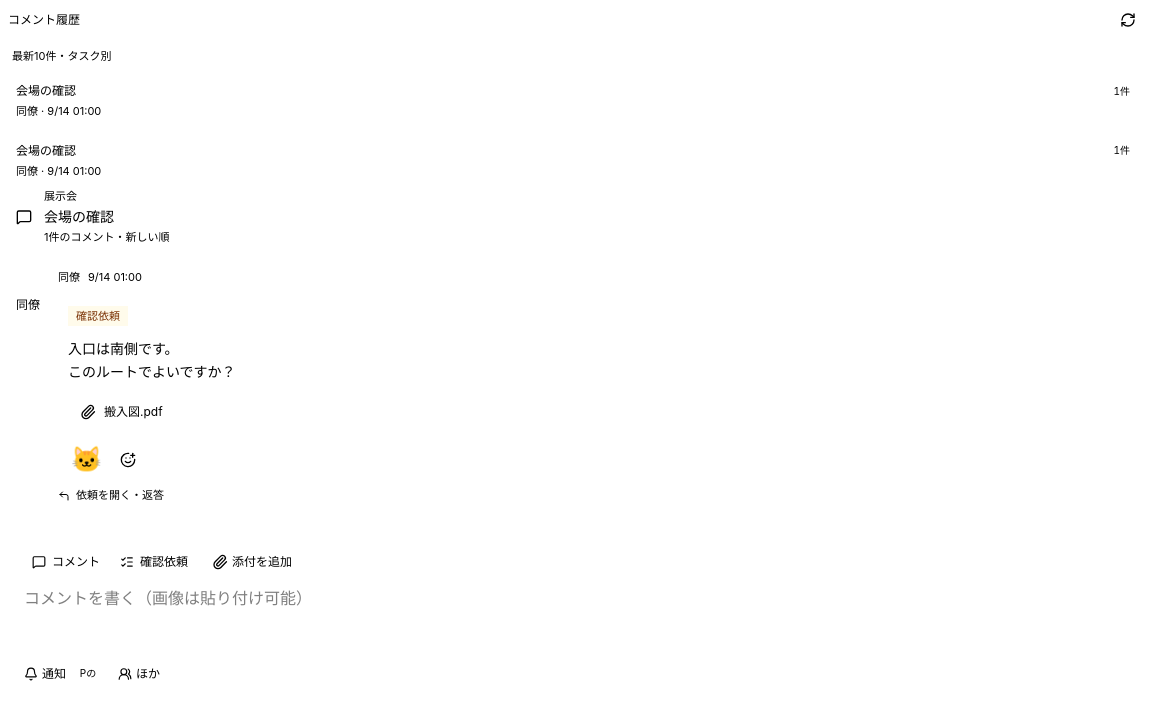
Test: posts to the selected task across projects, resets drafts when switching and refreshes the saved comment without navigating
Type "Pの下書き" into the text box named "メモ・報告の本文" at (576, 618), box 24,586 -> 1128,650
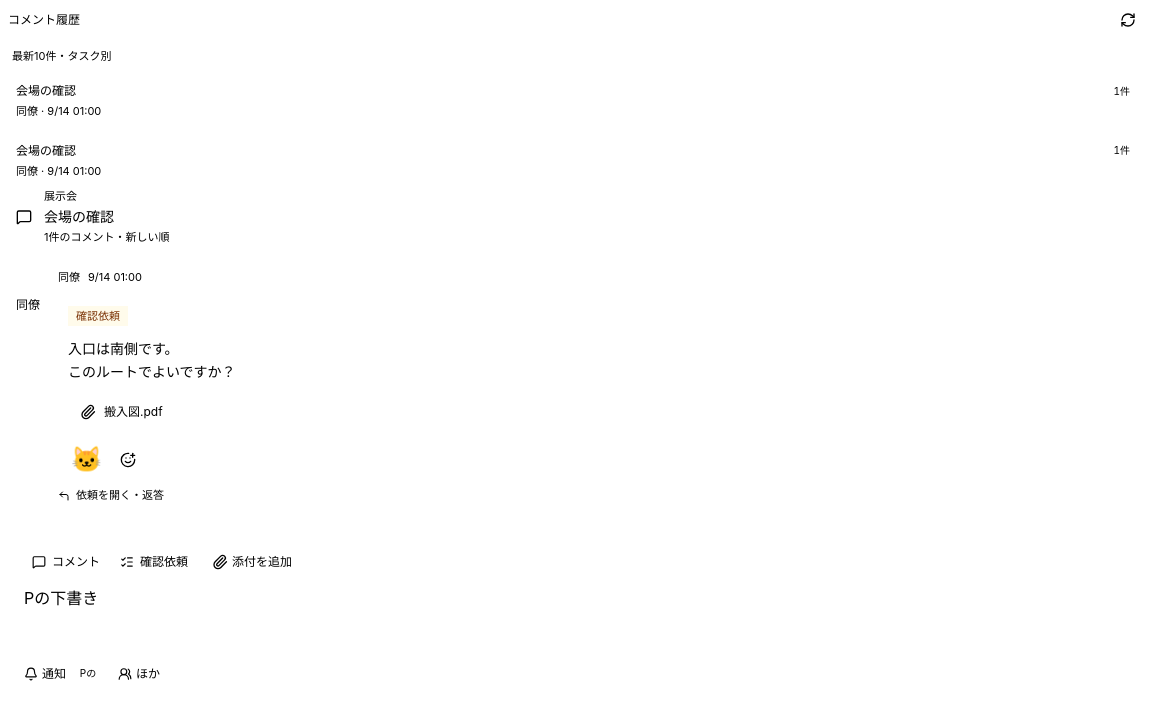
Click the button with aria-label "別の展示会 / 会場の確認のコメント（1件）" at (46, 151), box 6,132 -> 1146,188
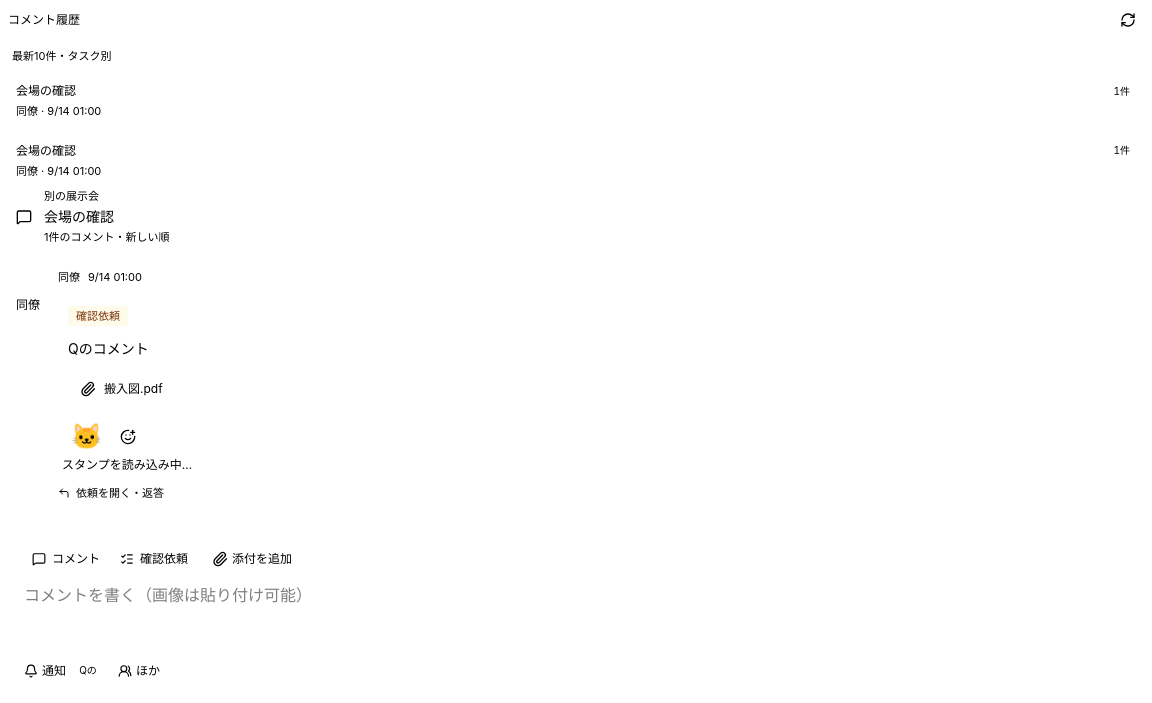
Expected: the text box named "メモ・報告の本文" is enabled, 24,583 -> 1128,647
Now the text box named "メモ・報告の本文" is empty, box 24,583 -> 1128,647
Click the checkbox named "Qのメンバー" at (88, 670), box 79,664 -> 97,676
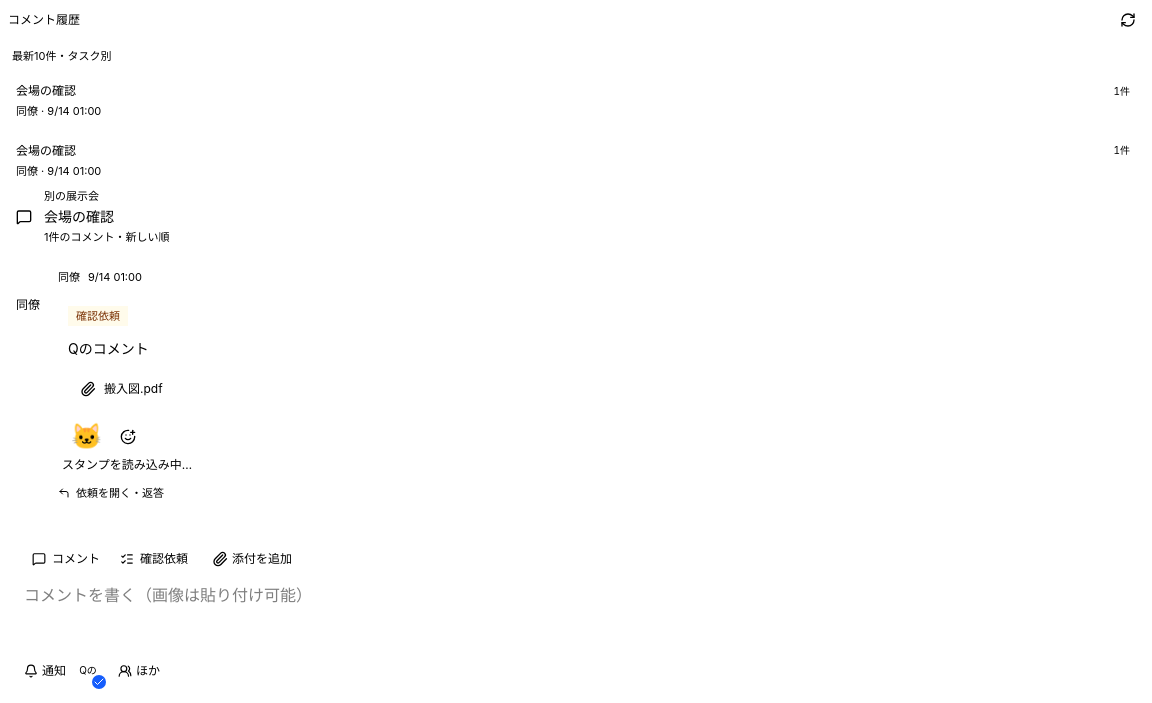
Type "こちらで確認します" into the text box named "メモ・報告の本文" at (576, 615), box 24,583 -> 1128,647
(page scrolled)
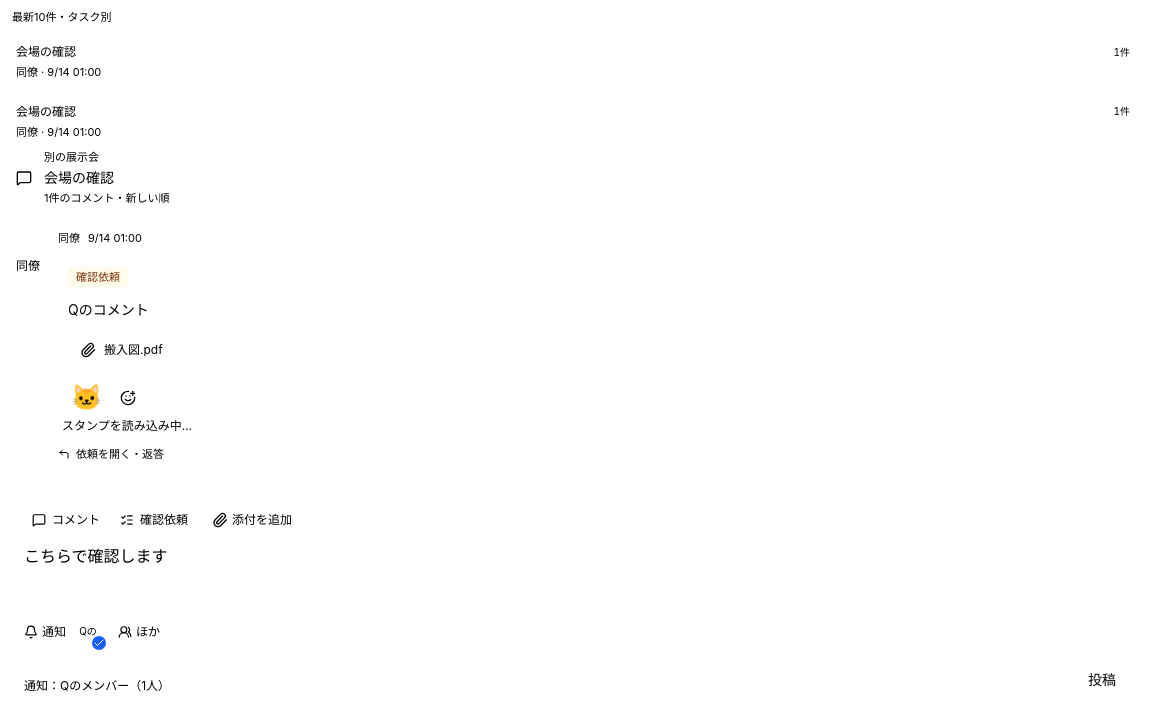
Click the button "投稿" at (1102, 680), box 1076,664 -> 1128,696
(page scrolled)
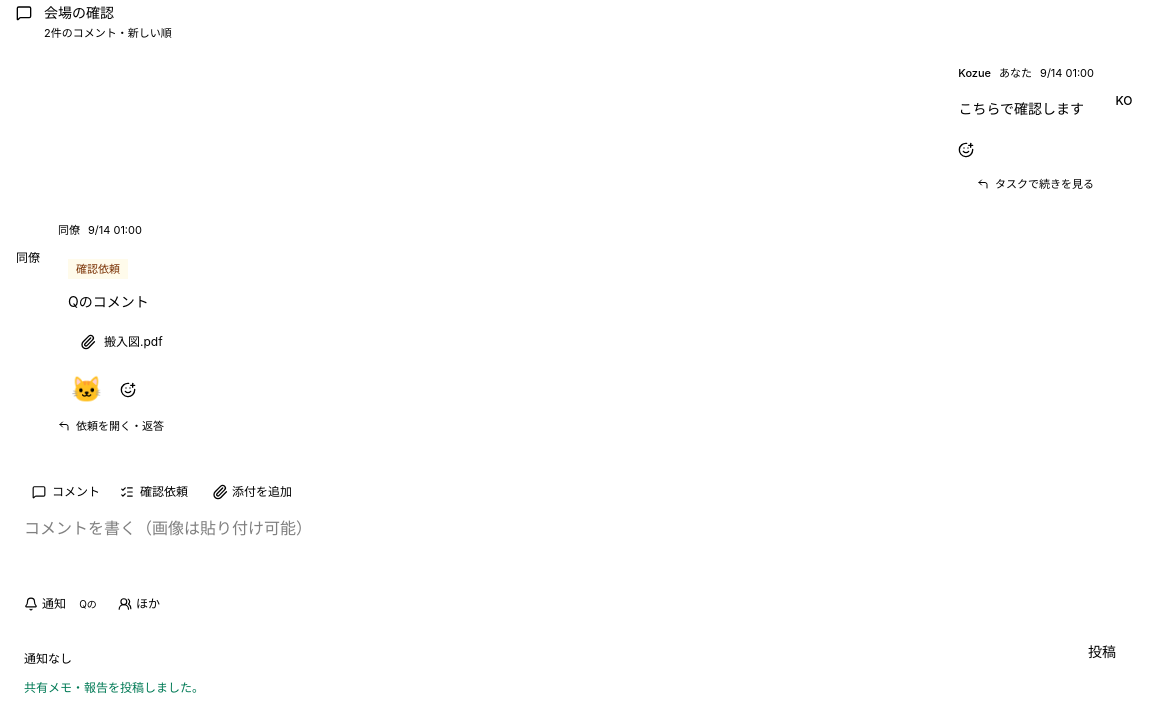
Now the text "こちらで確認します" is shown, box 958,98 -> 1084,120
Now the text box named "メモ・報告の本文" is empty, box 24,516 -> 1128,580
